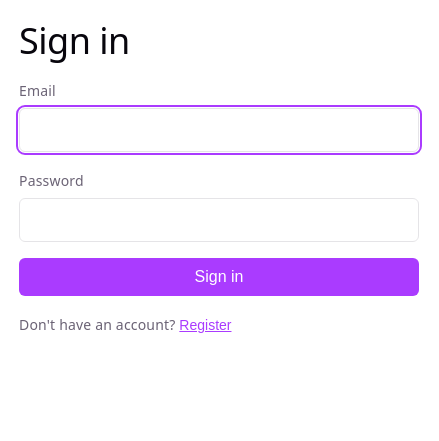
it: LoginPage › toggles back to sign in
The image size is (439, 441).
Click the button "Register": [205, 325] box [179, 317, 231, 333]
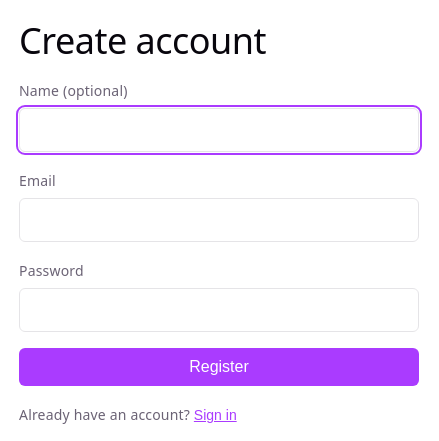
Click the button "Sign in": [215, 415] box [194, 407, 237, 423]
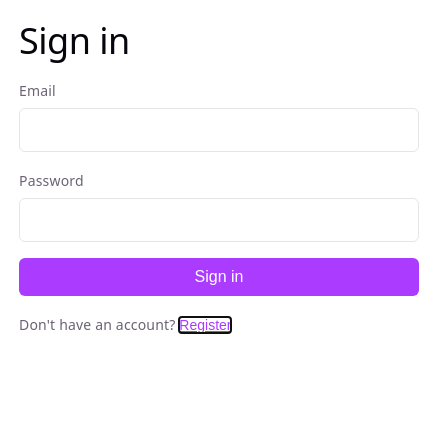
Now the heading "Sign in" is shown, box [19, 16, 130, 65]
